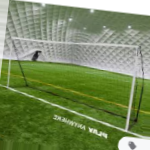goals: (5, 33, 145, 132)
